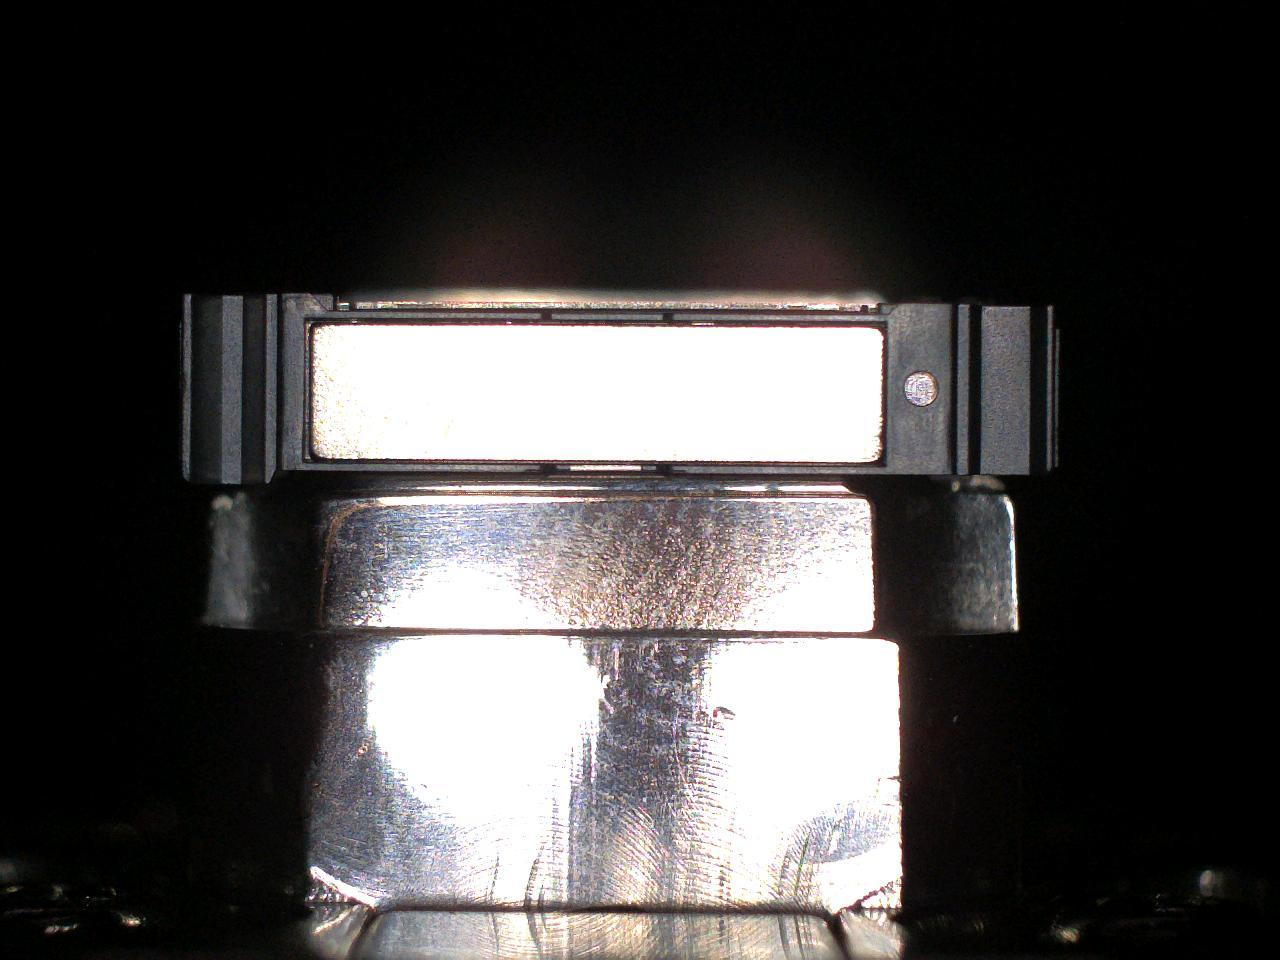gap: (675, 321, 887, 330), (311, 458, 540, 466), (311, 319, 540, 326), (670, 460, 885, 467), (551, 320, 666, 328), (556, 460, 656, 466)
magnetic: (182, 293, 1059, 484), (311, 324, 883, 464)
